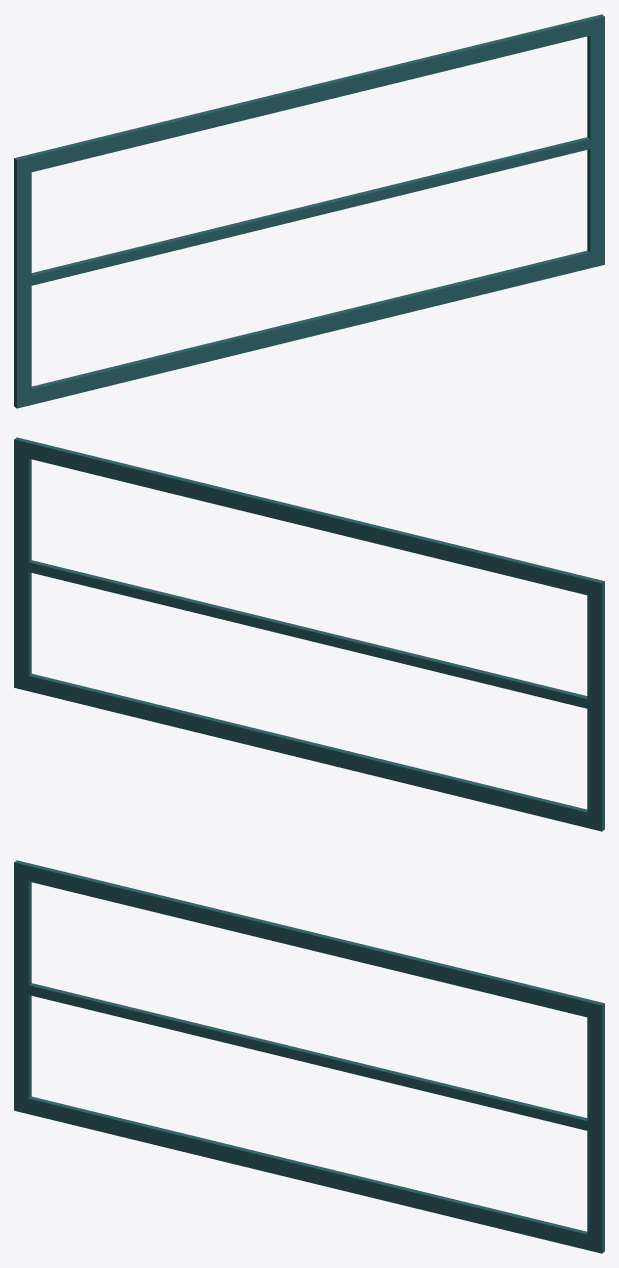
Rendered from glass_window_frame_final.fbx.
The picture shows the model from 3 angles, top to bottom: view 1: azimuth 30°, elevation 25°; view 2: azimuth 150°, elevation 25°; view 3: azimuth 330°, elevation 25°; orthographic projection.
Parts seen in each view (by area): view 1: polySurface55; view 2: polySurface55; view 3: polySurface55.
Part boxes in pixels (x1,y1,x2,y2): polySurface55: (14,14,604,408); polySurface55: (14,437,604,831); polySurface55: (14,860,604,1253).
Bounding box in the file's own units: 533 × 215 × 4.73.
